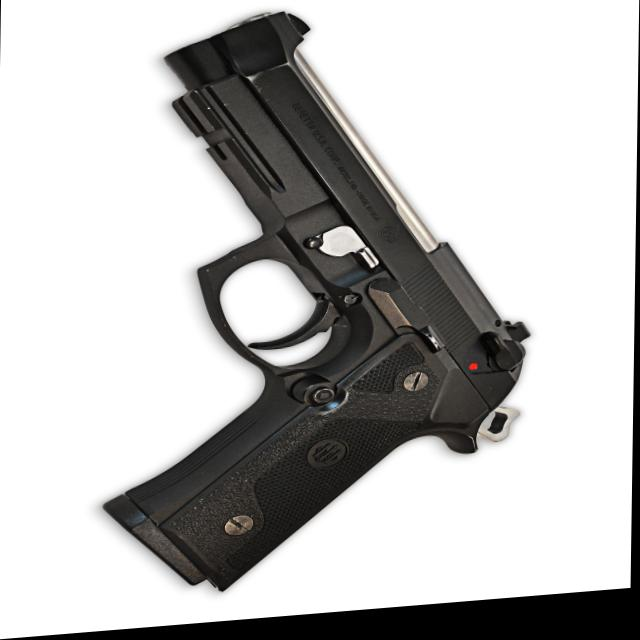handgun: (101, 0, 538, 603)
